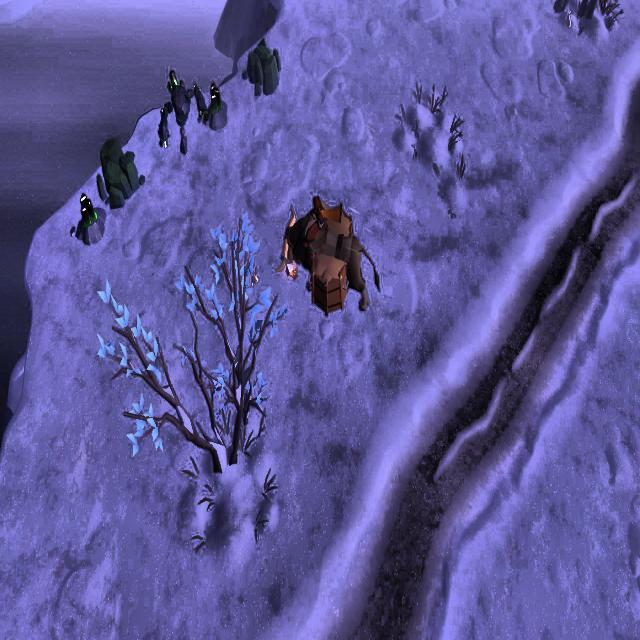ore_t3: (77, 187, 95, 232), (208, 80, 222, 120)
rock_t3: (95, 135, 144, 207), (240, 26, 284, 98)
